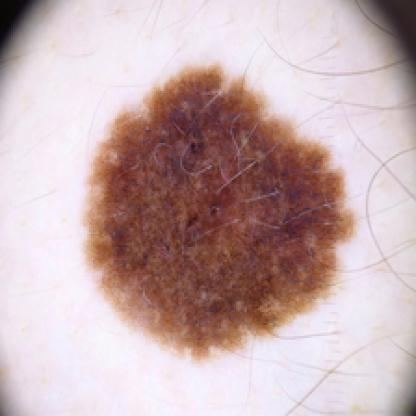benign: (87, 58, 351, 349)
